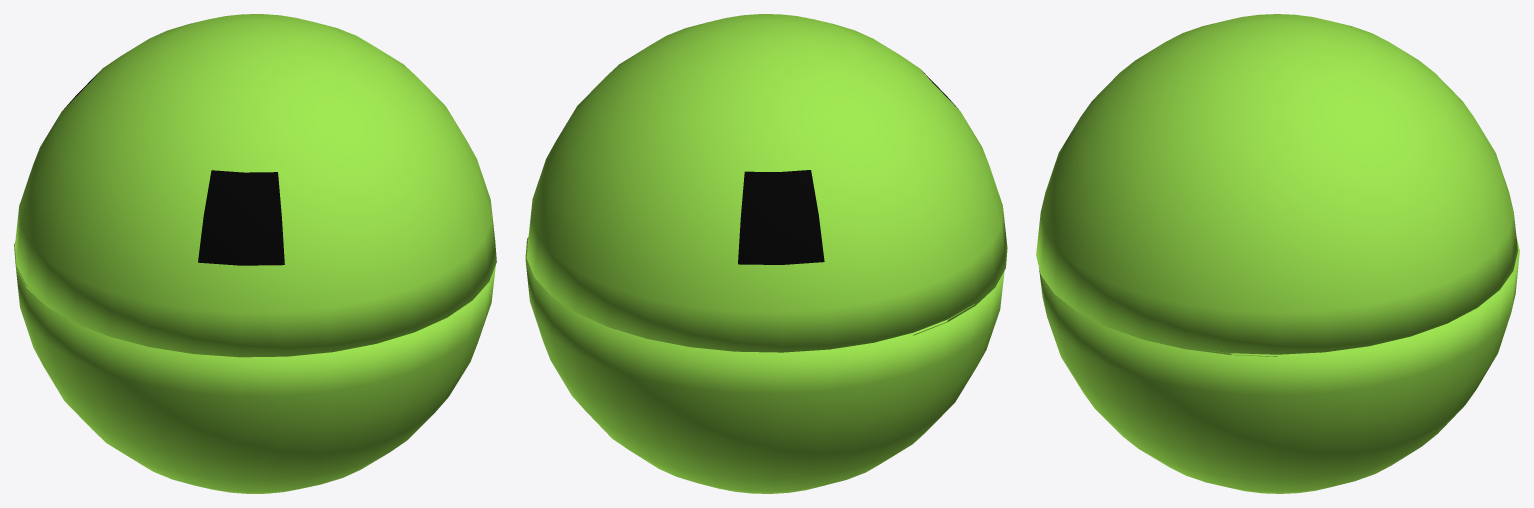
File: PacmanFinal.glb
3 renders of one model, left to right at view 1: azimuth 30°, elevation 25°; view 2: azimuth 150°, elevation 25°; view 3: azimuth 270°, elevation 25°, orthographic.
Visible parts, largest first — view 1: Sphere.001, Sphere; view 2: Sphere.001, Sphere; view 3: Sphere.001, Sphere.
Part boxes in pixels (box(x1,y1,x2,y2)): Sphere.001: box(15, 14, 496, 357); Sphere: box(14, 242, 495, 493); Sphere.001: box(526, 14, 1007, 352); Sphere: box(525, 237, 1004, 493); Sphere.001: box(1036, 14, 1517, 356); Sphere: box(1039, 238, 1519, 493).
Size of the model in its own units: 2 by 1.99 by 2.01.
